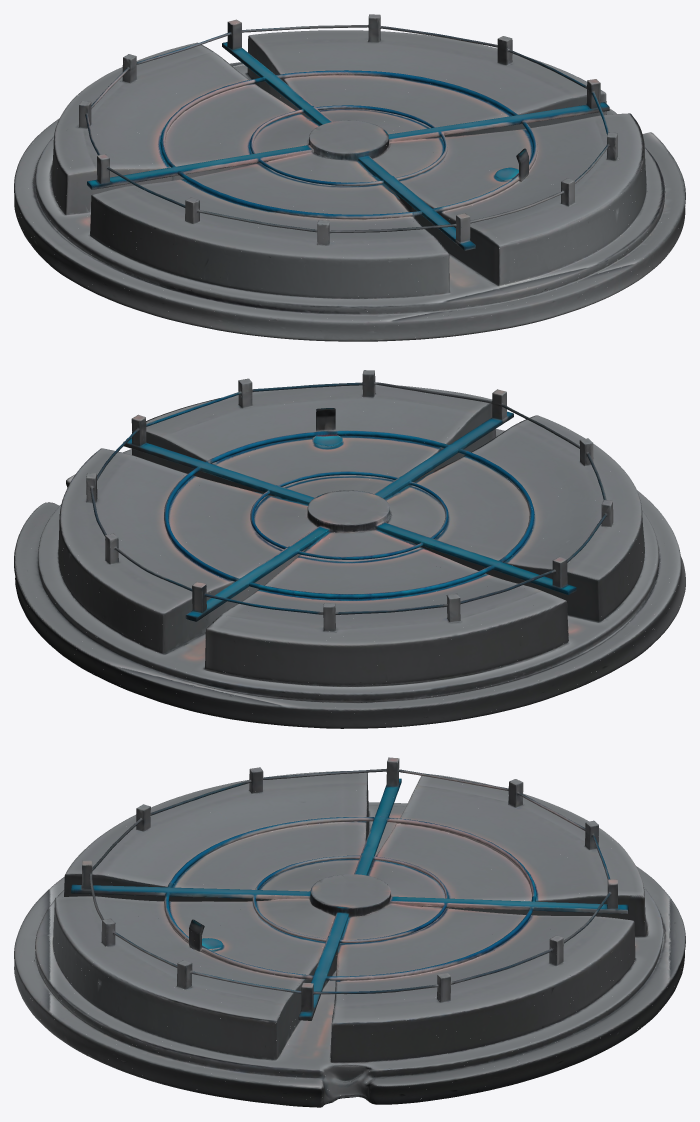
File: tripo_arena_lod.glb
The picture shows the model from 3 angles, top to bottom: view 1: azimuth 30°, elevation 25°; view 2: azimuth 150°, elevation 25°; view 3: azimuth 270°, elevation 25°; orthographic projection. The views are drawn at different scales.
Visible parts, largest first — view 1: tripo_node_576ec8c1-2b20-4af0-a349-ecf3989ab062; view 2: tripo_node_576ec8c1-2b20-4af0-a349-ecf3989ab062; view 3: tripo_node_576ec8c1-2b20-4af0-a349-ecf3989ab062.
Part boxes in pixels (x1,y1,x2,y2): tripo_node_576ec8c1-2b20-4af0-a349-ecf3989ab062: [14, 14, 685, 341]; tripo_node_576ec8c1-2b20-4af0-a349-ecf3989ab062: [14, 370, 685, 728]; tripo_node_576ec8c1-2b20-4af0-a349-ecf3989ab062: [14, 757, 685, 1107].
Bounding box in the file's own units: 0.979 × 0.1527 × 0.9775.
Materials: 1 (1 with a texture image).
